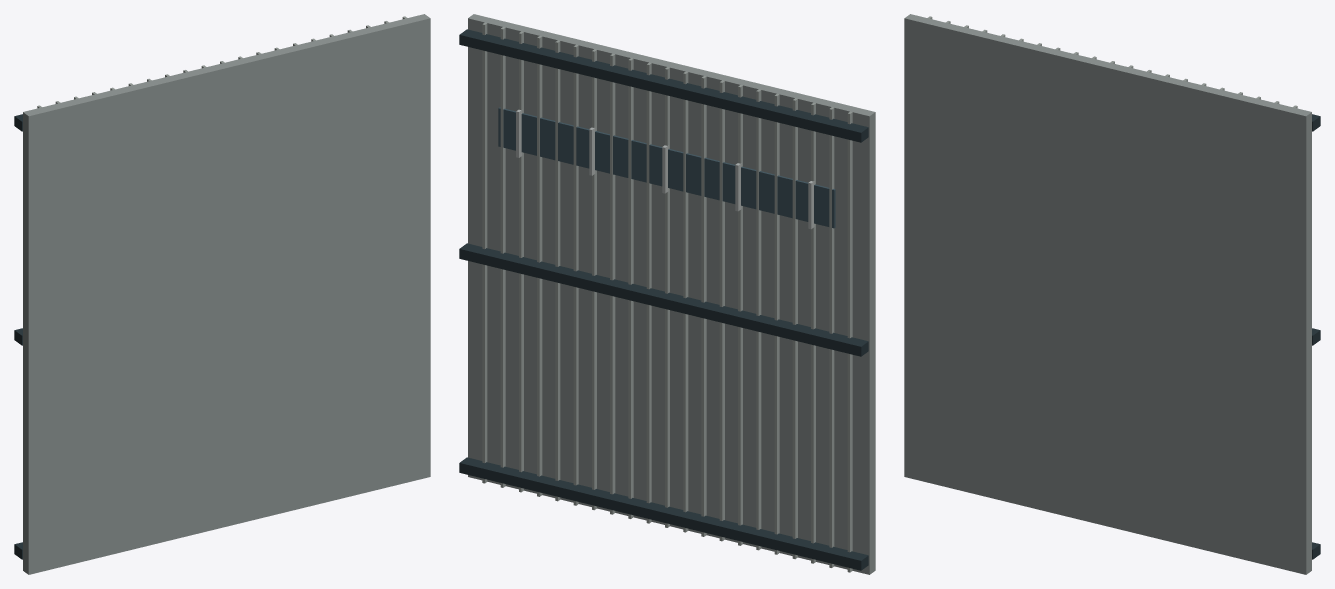
The model's file is wall_bay.glb.
The picture shows the model from 3 angles, left to right: view 1: azimuth 30°, elevation 25°; view 2: azimuth 150°, elevation 25°; view 3: azimuth 330°, elevation 25°; orthographic projection.
Visible parts, largest first — view 1: body; view 2: body; view 3: body.
Part boxes in pixels (box(x1,y1,x2,y2)): body: box(14, 14, 430, 574); body: box(459, 14, 875, 574); body: box(904, 14, 1320, 574).
Size of the model in its own units: 5.5 by 6 by 0.3399.
